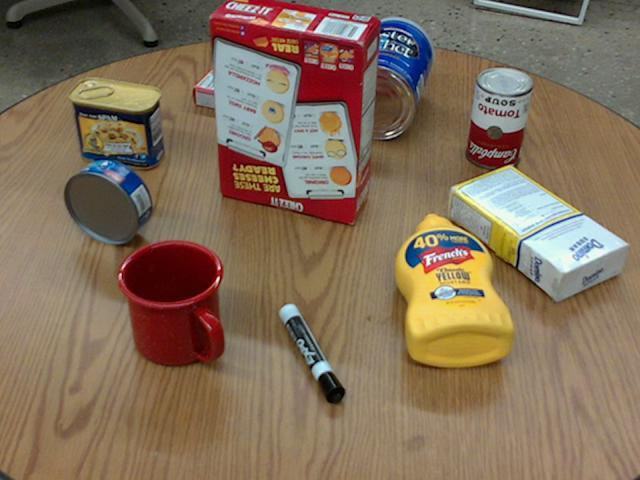cracker_box: (209, 0, 379, 221)
gelatin_box: (192, 64, 274, 117)
large_marker: (277, 303, 344, 402)
master_chef_can: (333, 17, 431, 138)
mug: (116, 239, 224, 366)
mustard_bottle: (393, 213, 513, 366)
potted_meat_can: (67, 79, 163, 169)
sugar_box: (445, 167, 628, 297)
tomato_soup_can: (463, 66, 531, 167)
tuna_fish_can: (64, 159, 151, 244)
